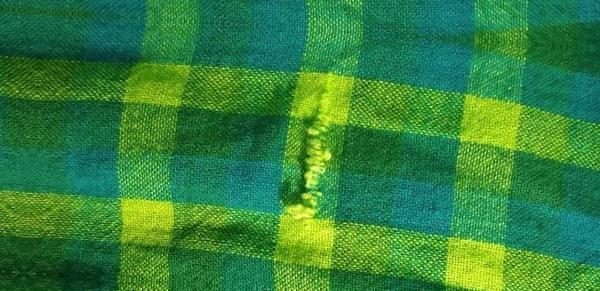knot: (283, 85, 337, 222)
